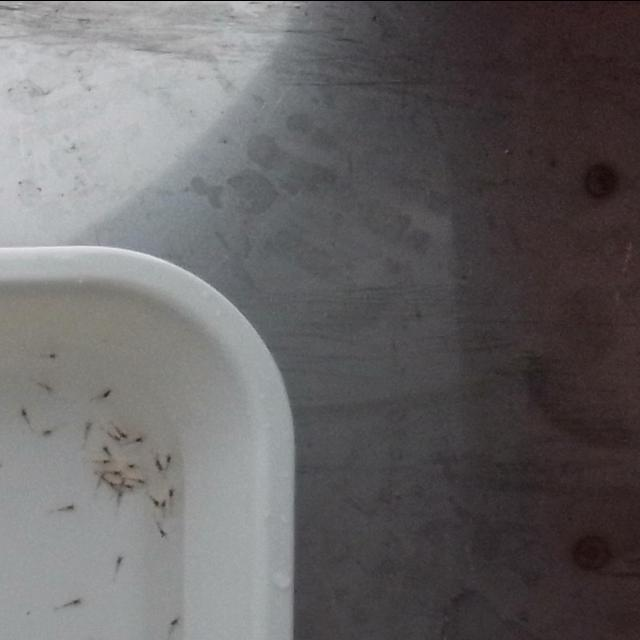shrimp-seed: (100, 387, 114, 399), (42, 382, 54, 394), (158, 526, 170, 538), (47, 350, 59, 361), (83, 421, 94, 432), (170, 615, 181, 626), (71, 596, 83, 606), (114, 554, 124, 566), (166, 486, 176, 498), (102, 456, 114, 466), (134, 434, 145, 444), (108, 480, 119, 490), (100, 444, 112, 453), (20, 408, 30, 418), (42, 426, 52, 436), (164, 454, 174, 464), (158, 498, 168, 508), (152, 497, 162, 507), (118, 430, 128, 440), (157, 462, 165, 473), (113, 469, 124, 477), (66, 503, 76, 511), (153, 456, 161, 466), (126, 461, 136, 469), (138, 476, 148, 484), (126, 482, 134, 492), (116, 488, 124, 498), (112, 433, 121, 441), (120, 476, 128, 484)
